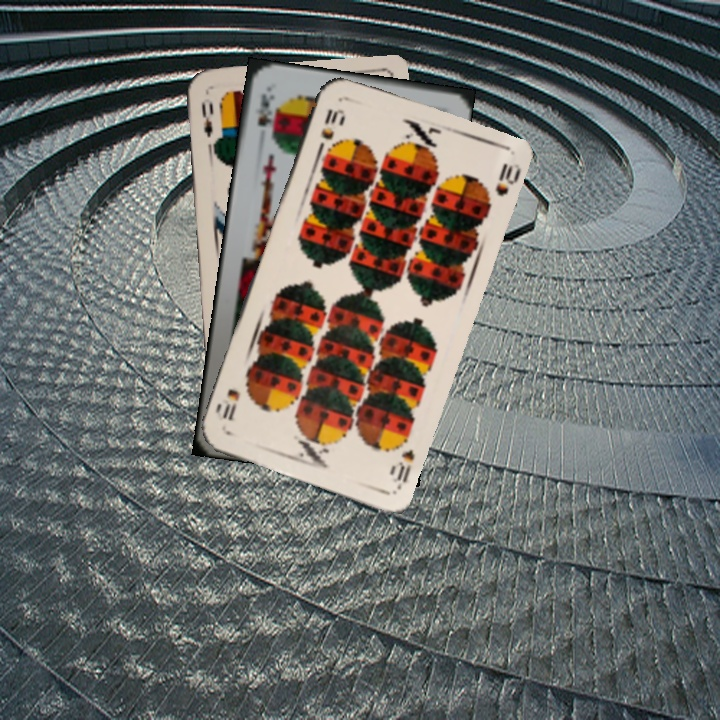EO: (197, 98, 216, 140)
S10: (313, 104, 345, 155), (385, 445, 417, 491)
SK: (253, 90, 277, 129)
